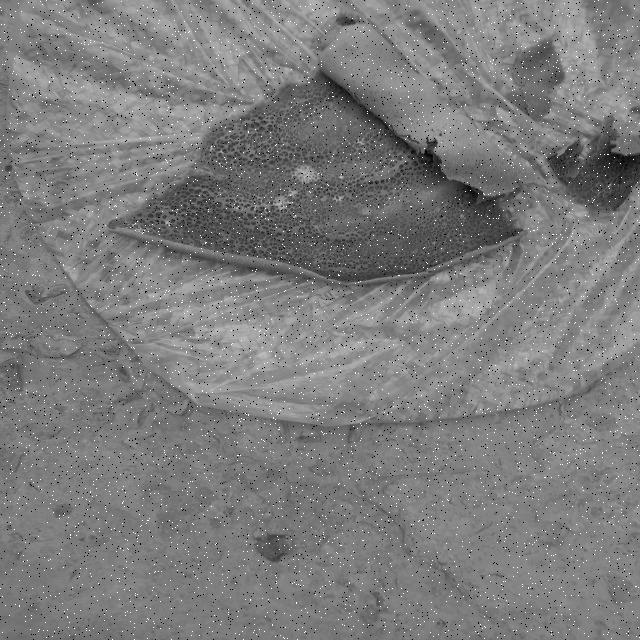injera_mold: (283, 162, 321, 188), (344, 136, 374, 160), (267, 194, 297, 213), (126, 220, 155, 237), (330, 190, 352, 203), (453, 210, 472, 222), (159, 216, 177, 228), (355, 169, 368, 180)
